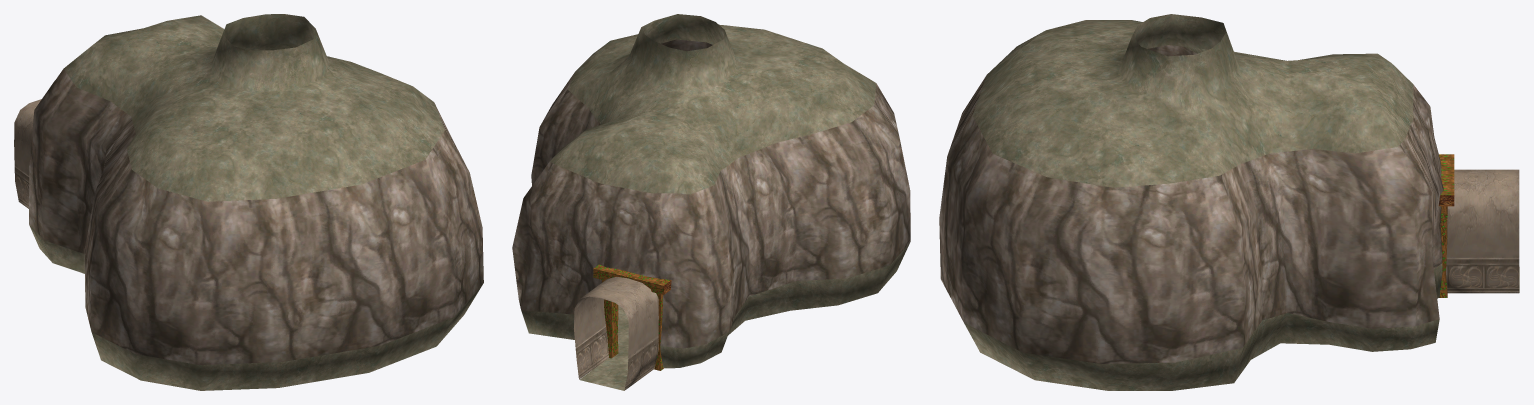
The model's file is EKH_GROTTO_PS_GR_SIDEROOM84736__GX.fbx.
3 views of the same model, side by side, from view 1: azimuth 30°, elevation 25°; view 2: azimuth 150°, elevation 25°; view 3: azimuth 270°, elevation 25° (orthographic). The views are drawn at different scales.
Parts seen in each view (by area): view 1: EKH_GROTTO_PS_GR_SIDEROOM84736__GX; view 2: EKH_GROTTO_PS_GR_SIDEROOM84736__GX; view 3: EKH_GROTTO_PS_GR_SIDEROOM84736__GX.
Part boxes in pixels (bbox=[...]): EKH_GROTTO_PS_GR_SIDEROOM84736__GX: bbox=[14, 14, 483, 390]; EKH_GROTTO_PS_GR_SIDEROOM84736__GX: bbox=[512, 14, 910, 390]; EKH_GROTTO_PS_GR_SIDEROOM84736__GX: bbox=[939, 14, 1519, 390].
Bounding box in the file's own units: 98359 × 67800 × 126468.
Materials: 5 (5 with a texture image).
